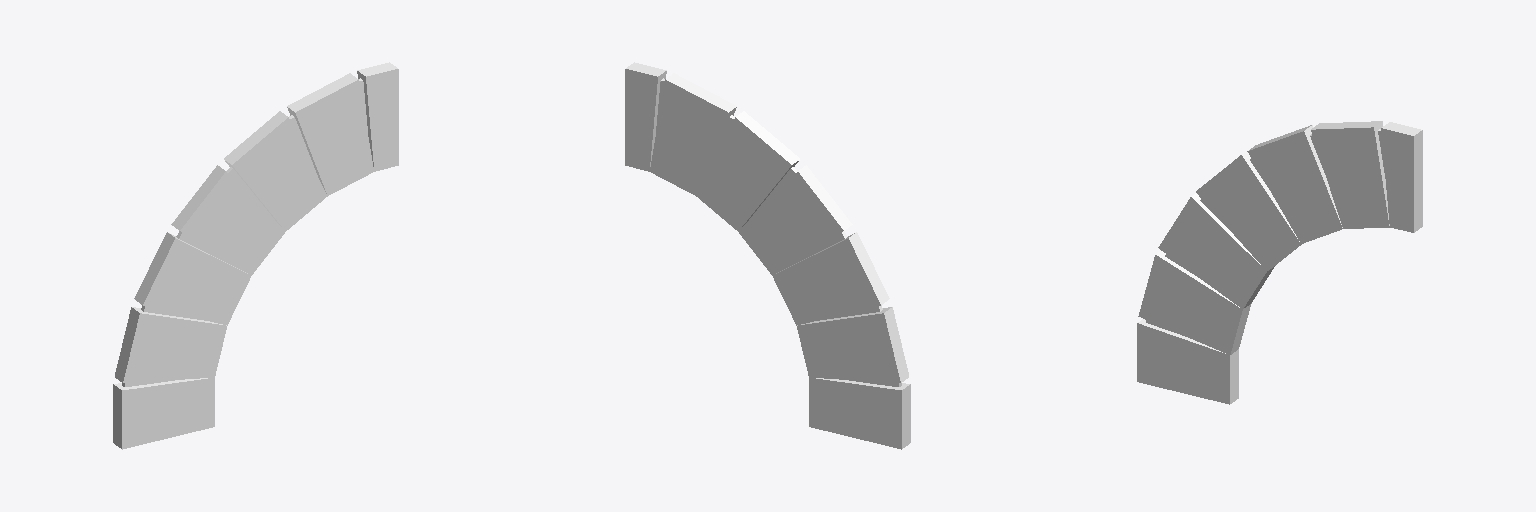
Rendered from generic_facade_round_arch_2_left_bottom.obj.
3 views of the same model, side by side, from view 1: azimuth 30°, elevation 25°; view 2: azimuth 150°, elevation 25°; view 3: azimuth 330°, elevation 25° (orthographic).
Visible parts, largest first — view 1: arch_2_right, arch_2_right_inner; view 2: arch_2_right, arch_2_right_inner; view 3: arch_2_right.
Boxes of the visible parts, box(x1,y1,x2,y2) form: arch_2_right: box(113, 62, 398, 449); arch_2_right_inner: box(122, 78, 367, 386); arch_2_right: box(625, 62, 910, 449); arch_2_right_inner: box(656, 78, 901, 386); arch_2_right: box(1137, 121, 1422, 404).
Size of the model in its own units: 1.5 by 1.62 by 0.0812.